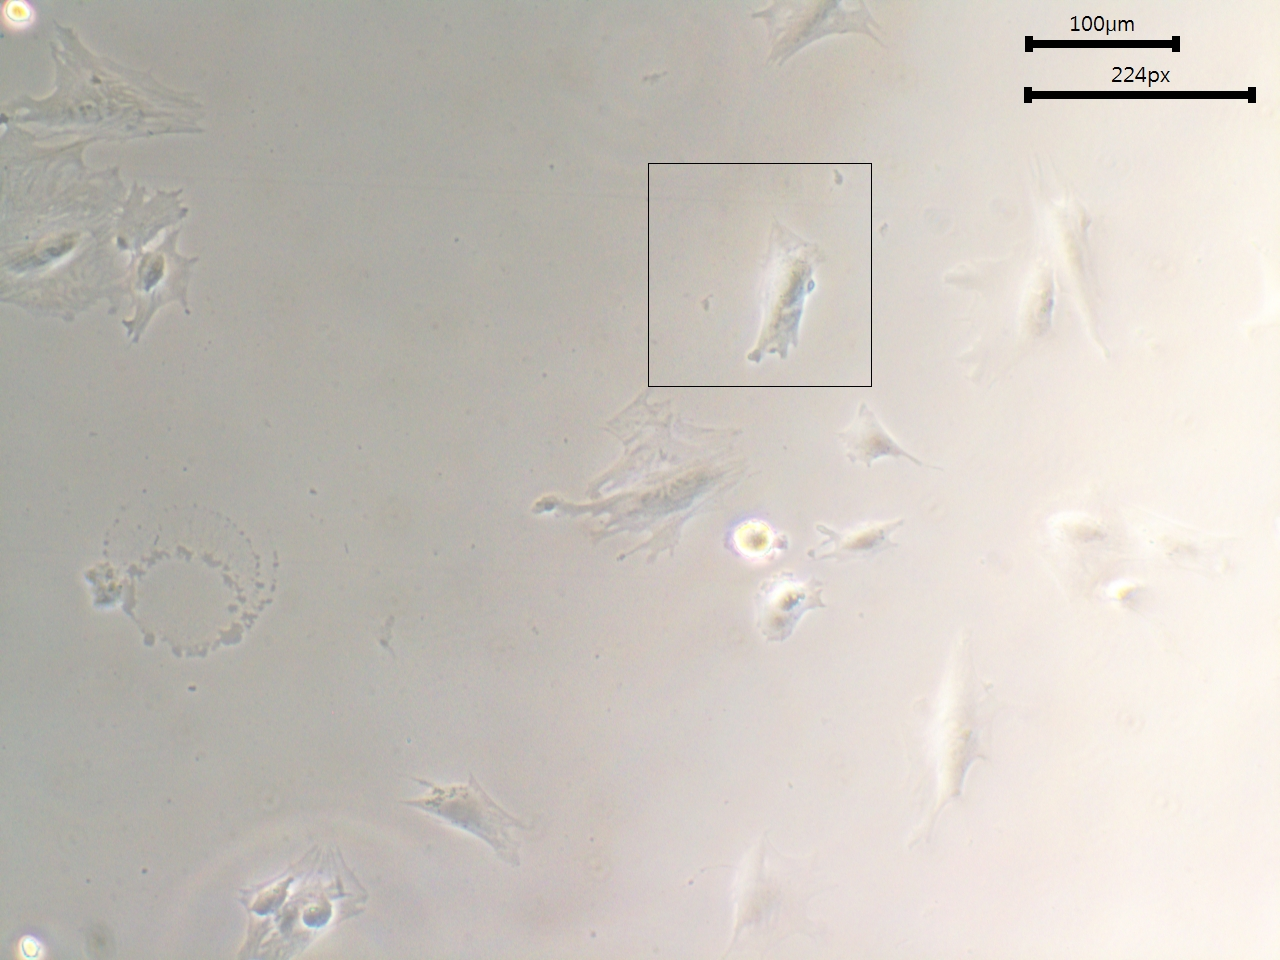medium-polygonal: (743, 213, 843, 367)
small-polygonal: (399, 764, 548, 877), (807, 512, 913, 569)
small-spread: (831, 400, 934, 484), (751, 573, 834, 646), (722, 519, 786, 567)
